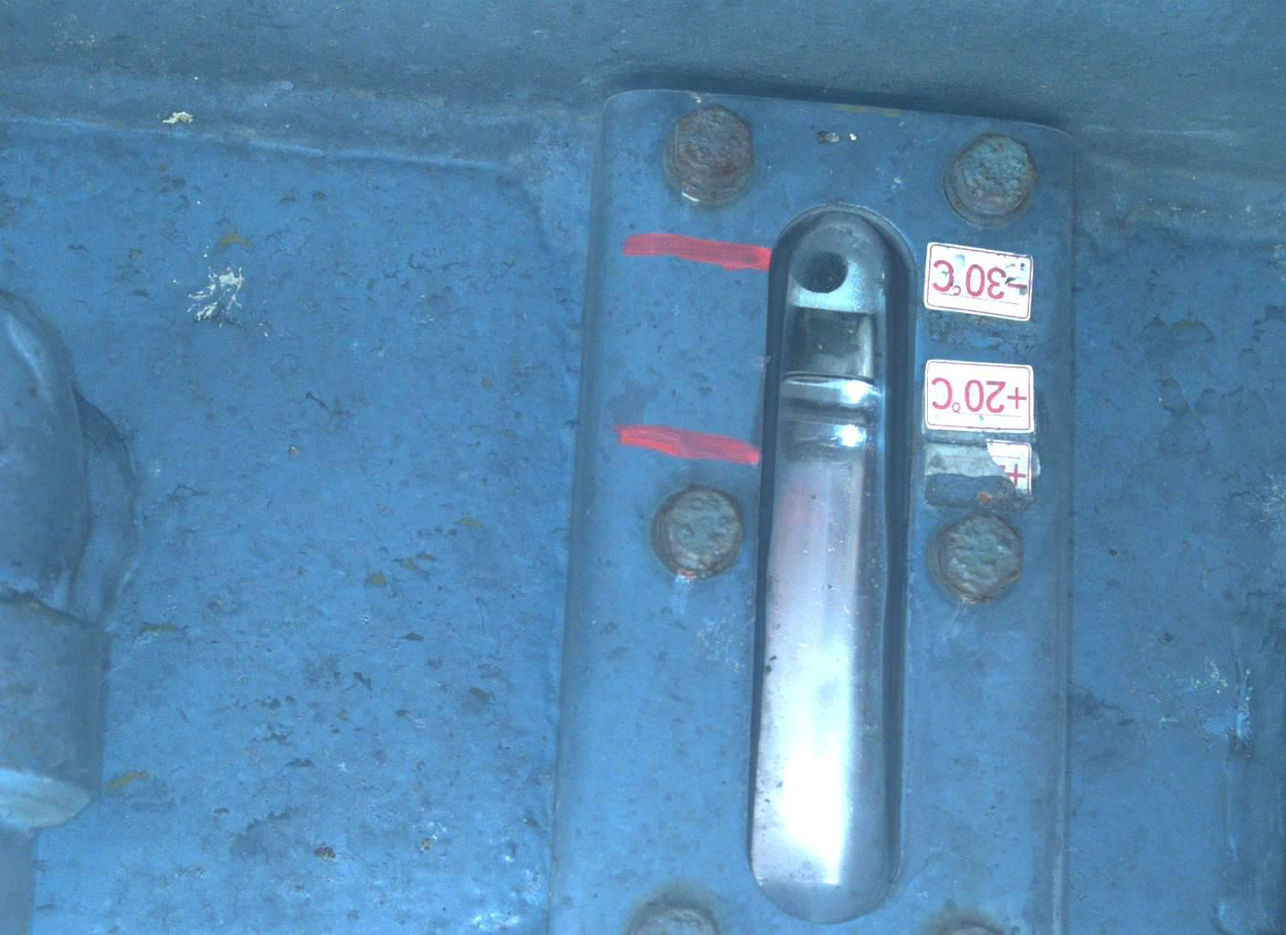oil_level_gauge: (604, 98, 1047, 930)
